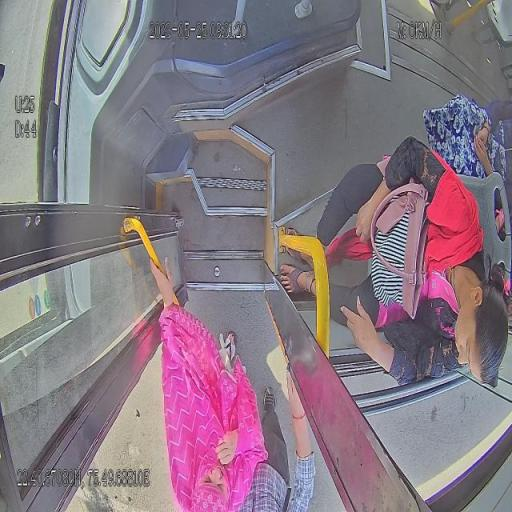persona: (278, 136, 510, 389), (148, 253, 263, 512), (422, 92, 512, 236), (241, 372, 316, 512)
